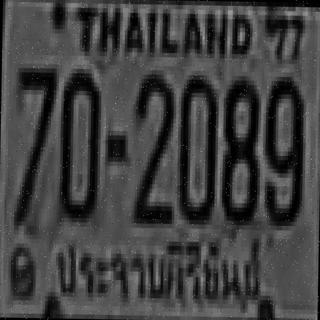N00: (56, 64, 99, 218), (176, 71, 216, 220)
N02: (133, 70, 173, 219)
N07: (13, 63, 55, 222)
N08: (219, 74, 259, 223)
N09: (263, 72, 303, 222)
P50: (48, 230, 266, 314)
